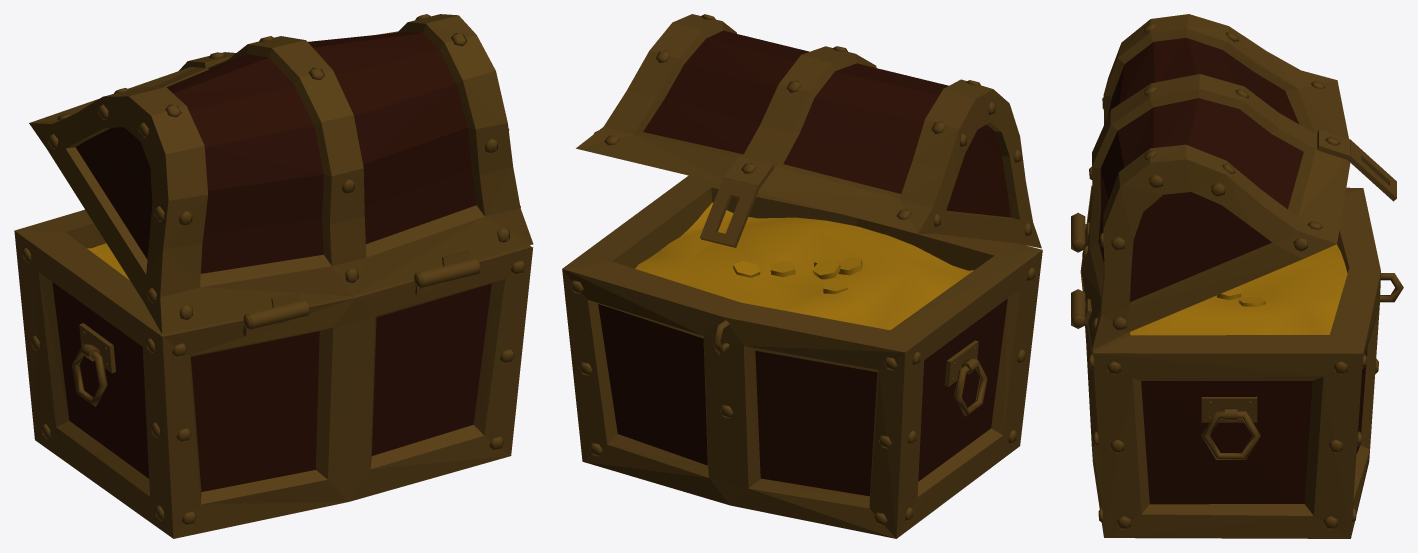
The model's file is intro_prop(chest)_01.FBX.
3 renders of one model, left to right at view 1: azimuth 30°, elevation 25°; view 2: azimuth 150°, elevation 25°; view 3: azimuth 270°, elevation 25°, orthographic. The views are drawn at different scales.
Parts seen in each view (by area): view 1: Plane005; view 2: Plane005; view 3: Plane005.
Boxes of the visible parts, x1=… form: Plane005: x1=14, y1=14, x2=533, y2=538; Plane005: x1=562, y1=14, x2=1042, y2=538; Plane005: x1=1071, y1=14, x2=1403, y2=538.
Size of the model in its own units: 41.97 by 44.26 by 34.98.
